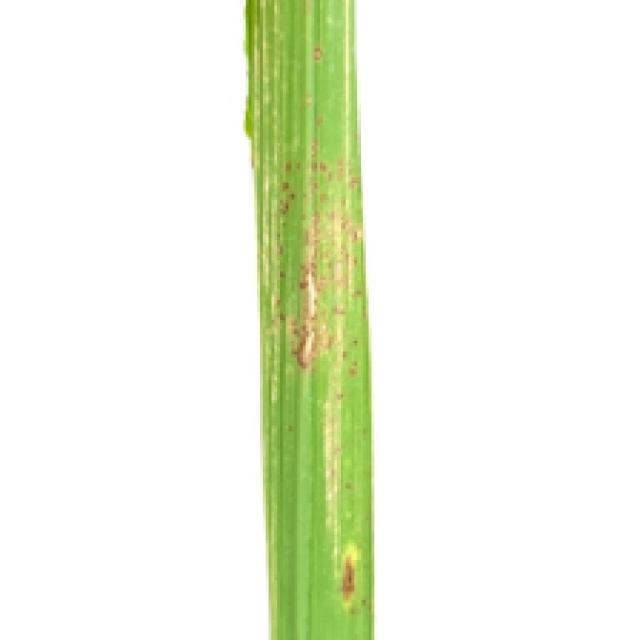Rice___Brown_Spot: (241, 0, 374, 637)
